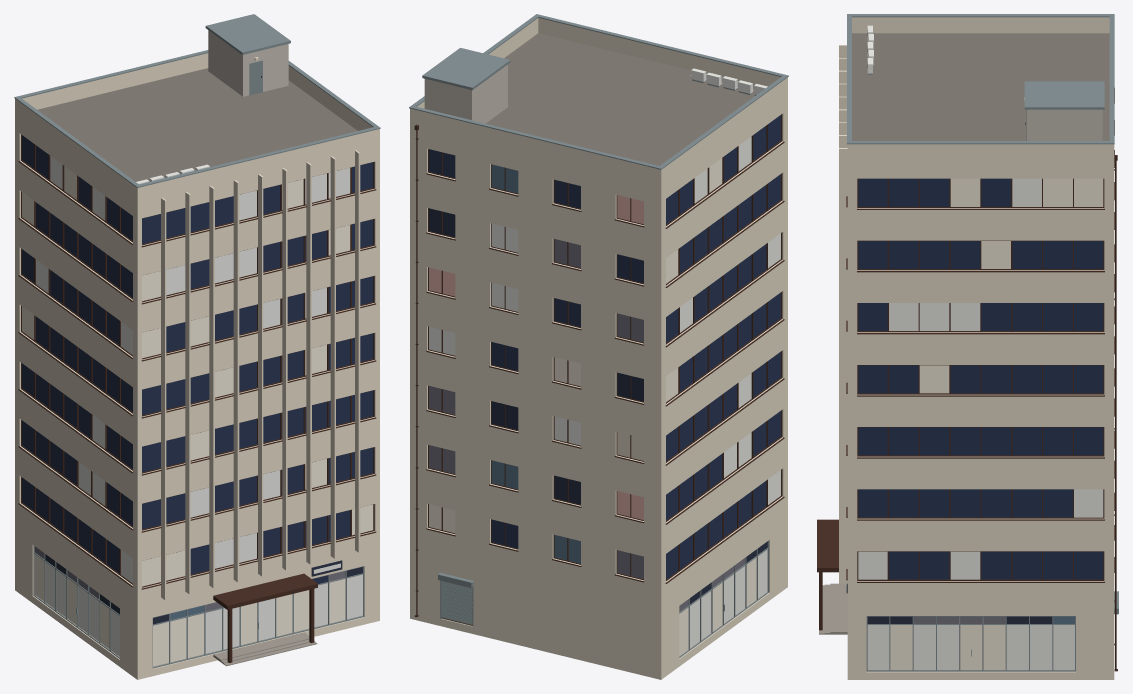
File: tb_office_building_8f_01_c.fbx
3 views of the same model, side by side, from view 1: azimuth 30°, elevation 25°; view 2: azimuth 150°, elevation 25°; view 3: azimuth 270°, elevation 25° (orthographic). The views are drawn at different scales.
Visible parts, largest first — view 1: tb_office_building_8f_01_c; view 2: tb_office_building_8f_01_c; view 3: tb_office_building_8f_01_c.
Boxes of the visible parts, x1,y1,x2,y2 form: tb_office_building_8f_01_c: [14, 14, 380, 679]; tb_office_building_8f_01_c: [409, 14, 788, 679]; tb_office_building_8f_01_c: [817, 14, 1118, 679].
Size of what is drawn, in the model's own units: 16.12 by 32.95 by 15.85.
Materials: 3 (3 with a texture image).
